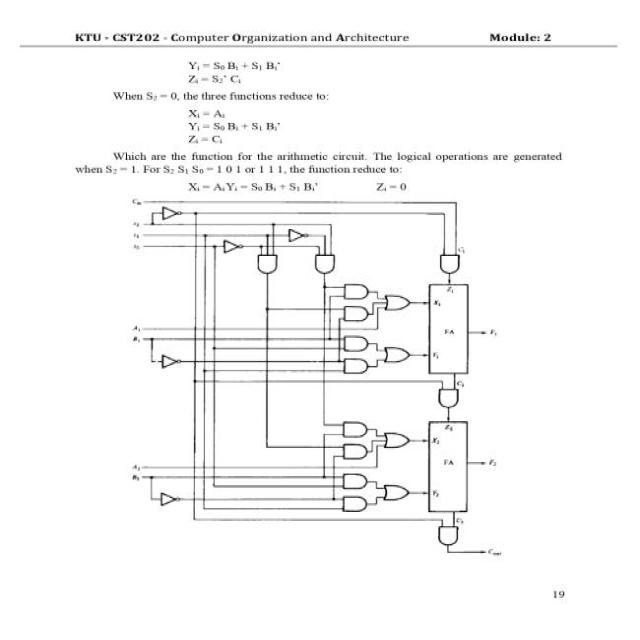Figure Detection - v3 Dataset Version2: (111, 191, 521, 568)
